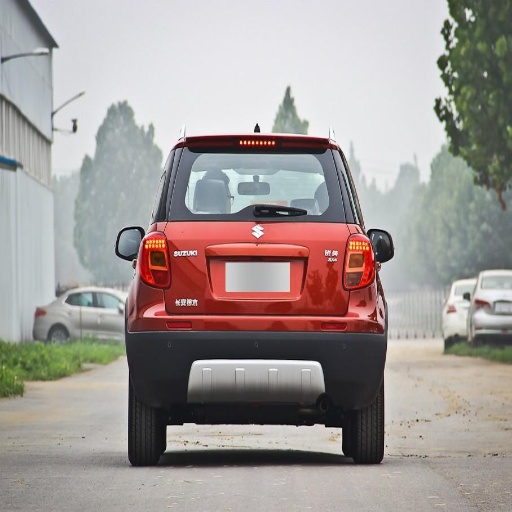back_bumper: (127, 282, 385, 404)
trunk: (157, 224, 358, 359)
